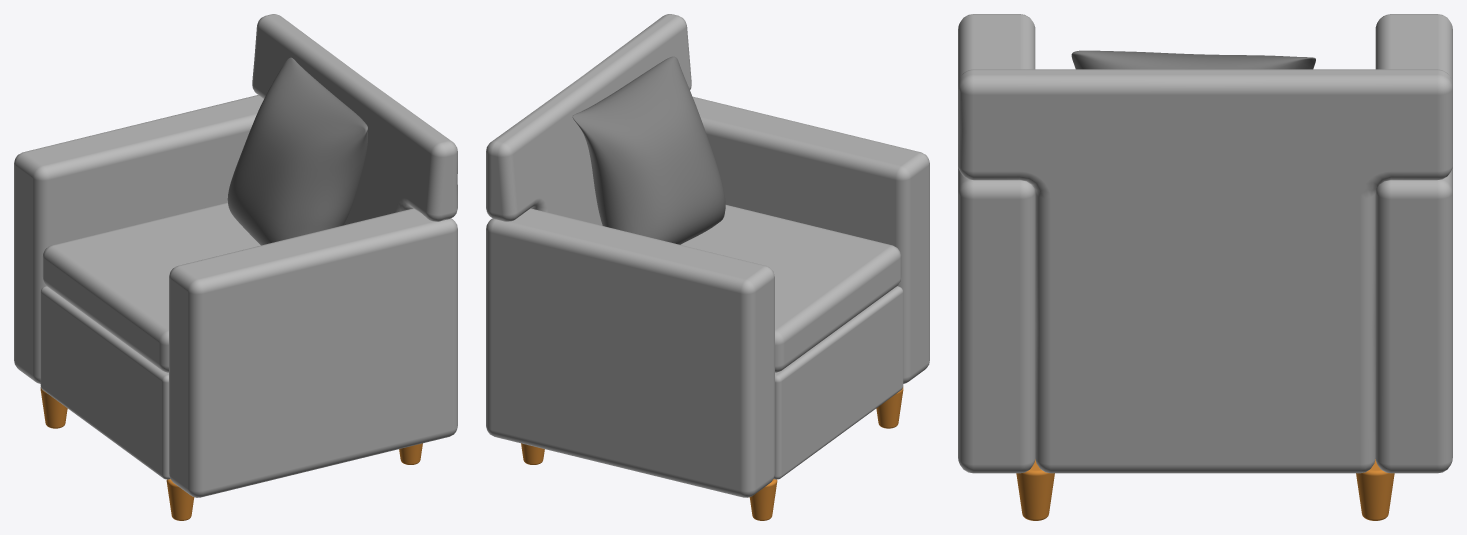
Rendered from OneSofa.FBX.
3 views of the same model, side by side, from view 1: azimuth 30°, elevation 25°; view 2: azimuth 150°, elevation 25°; view 3: azimuth 270°, elevation 25° (orthographic). The views are drawn at different scales.
Visible parts, largest first — view 1: object_6, object_7, object_10, object_9, object_5, object_8, object_1, object_4; view 2: object_7, object_6, object_10, object_9, object_5, object_8, object_4, object_1; view 3: object_5, object_6, object_7, object_10, object_3, object_2.
Boxes of the visible parts, x1,y1,x2,y2 form: object_6: (169,208,457,497); object_7: (14,95,263,383); object_10: (227,57,367,245); object_9: (42,202,260,372); object_5: (252,14,457,225); object_8: (40,286,170,479); object_1: (166,479,194,520); object_4: (40,387,67,428); object_7: (486,208,774,497); object_6: (693,96,929,383); object_10: (572,56,725,244); object_9: (680,205,901,372); object_5: (486,14,691,225); object_8: (774,286,903,479); object_4: (749,479,777,520); object_1: (876,387,903,428); object_5: (958,69,1452,473); object_6: (958,14,1035,473); object_7: (1375,14,1452,473); object_10: (1071,50,1315,69); object_3: (1356,459,1394,520); object_2: (1016,459,1054,520).
Size of the model in its own units: 2.7 by 3.21 by 3.2.
